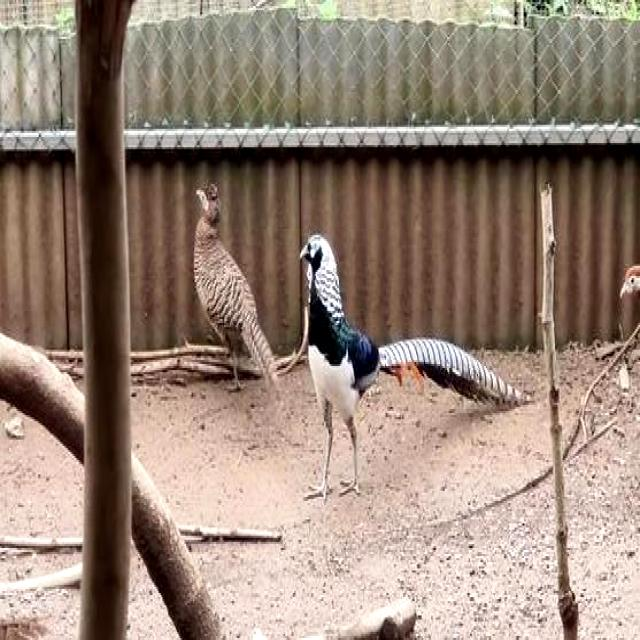Chrysolophus amherstiae: (379, 337, 523, 403)
